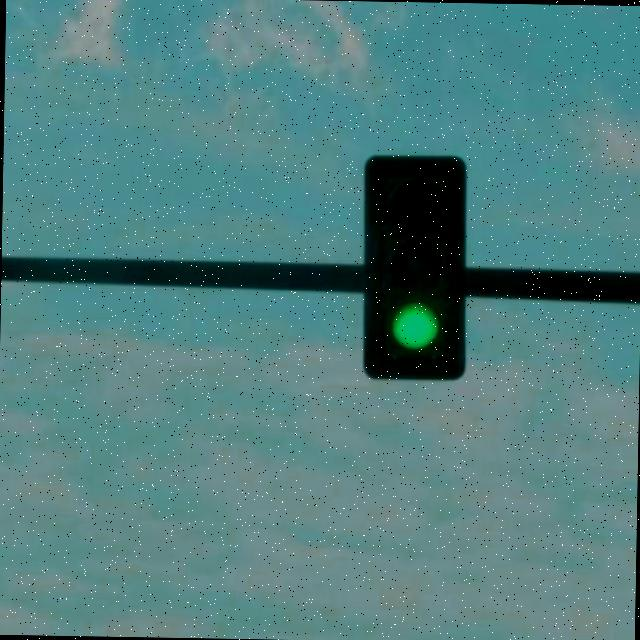Zielone swiatlo: (376, 176, 454, 357)
